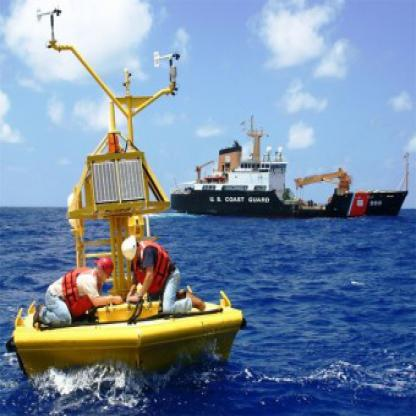buoy: (7, 4, 252, 381)
